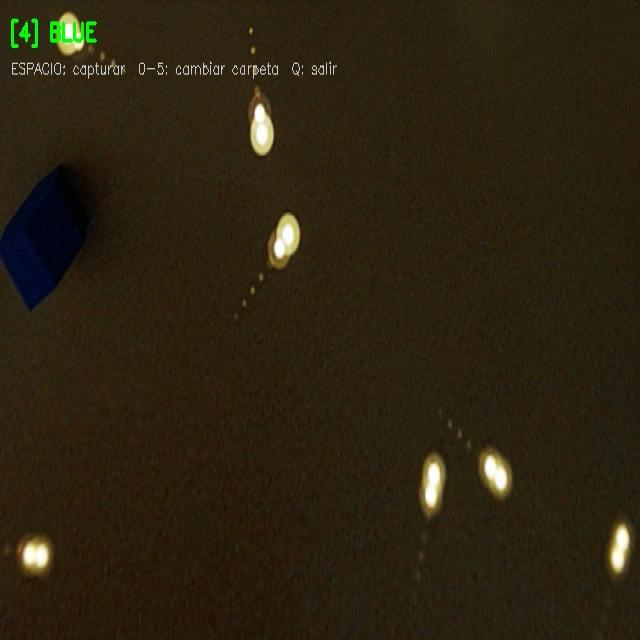blue: (0, 163, 95, 316)
